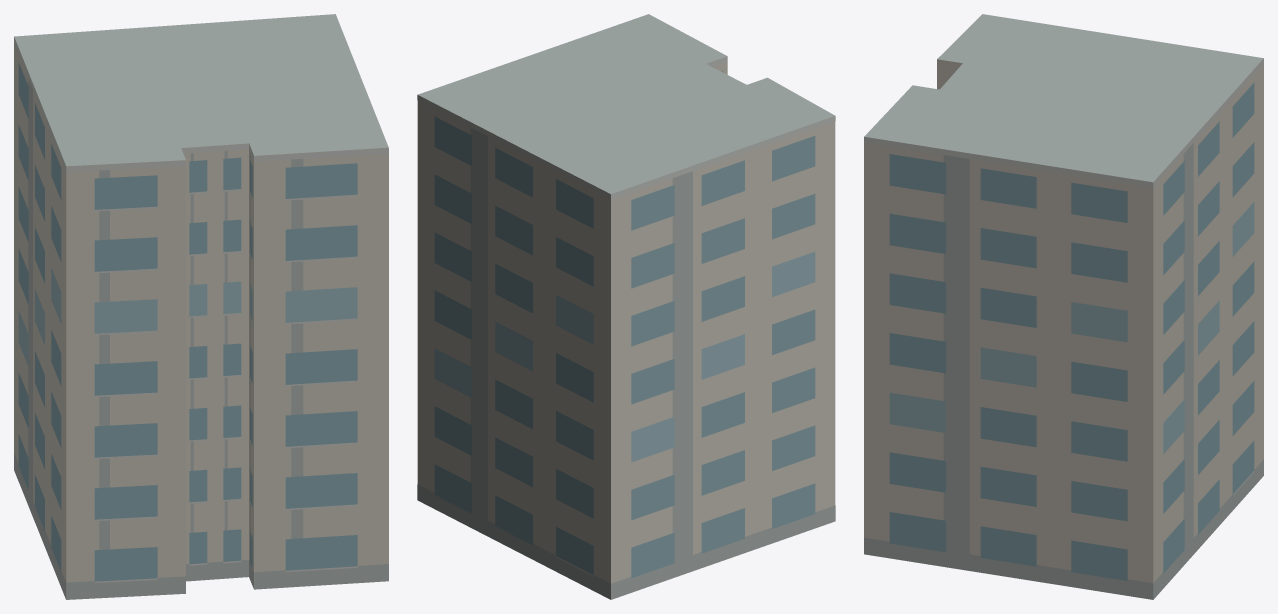
Rendered from survey-upis-32624047.glb.
3 renders of one model, left to right at view 1: azimuth 30°, elevation 25°; view 2: azimuth 150°, elevation 25°; view 3: azimuth 270°, elevation 25°, orthographic. The views are drawn at different scales.
Visible parts, largest first — view 1: survey-upis-32624047.tmp; view 2: survey-upis-32624047.tmp; view 3: survey-upis-32624047.tmp.
Part boxes in pixels (<box>): survey-upis-32624047.tmp: <box>14,14,388,599</box>; survey-upis-32624047.tmp: <box>417,14,835,599</box>; survey-upis-32624047.tmp: <box>864,14,1263,599</box>.
Bounding box in the file's own units: 15.48 × 17.9 × 15.54.
